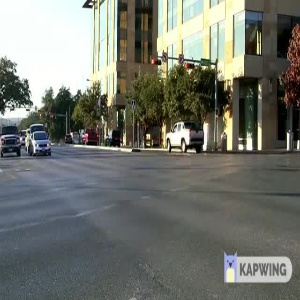car: (29, 130, 57, 156)
truck: (161, 116, 208, 154), (1, 119, 24, 156)
